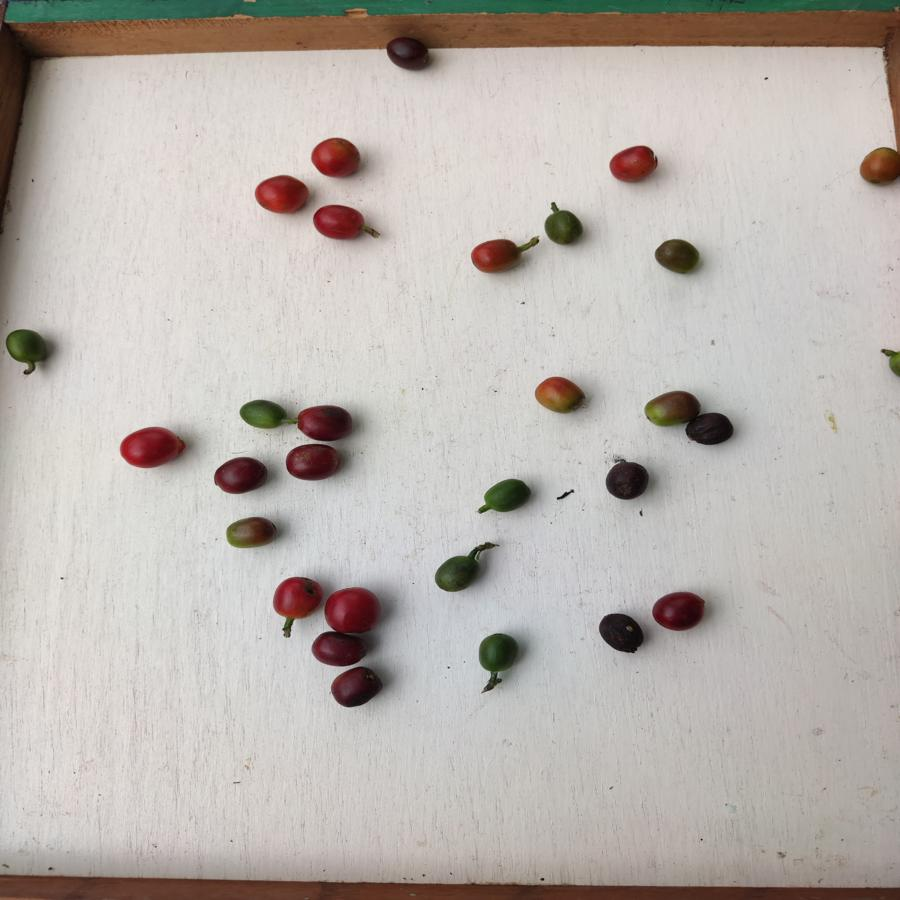Inmaduro: (431, 553, 487, 594), (482, 474, 534, 514), (1, 328, 50, 367), (476, 630, 519, 673), (236, 399, 290, 432), (541, 208, 586, 247)
Maduro: (117, 424, 186, 470), (322, 584, 382, 633), (308, 134, 367, 180), (251, 176, 310, 217), (270, 576, 322, 622), (607, 142, 661, 184), (312, 201, 365, 240), (469, 235, 519, 273)
Pinton: (532, 375, 589, 416), (856, 144, 900, 188), (653, 235, 703, 273), (225, 515, 278, 549), (645, 390, 699, 422)
Sobremaduro: (649, 588, 706, 631), (296, 403, 356, 442), (596, 611, 645, 656), (332, 666, 384, 708), (215, 456, 271, 495), (282, 445, 344, 480), (605, 458, 652, 501), (312, 631, 369, 665), (687, 411, 736, 449), (387, 34, 429, 72)
